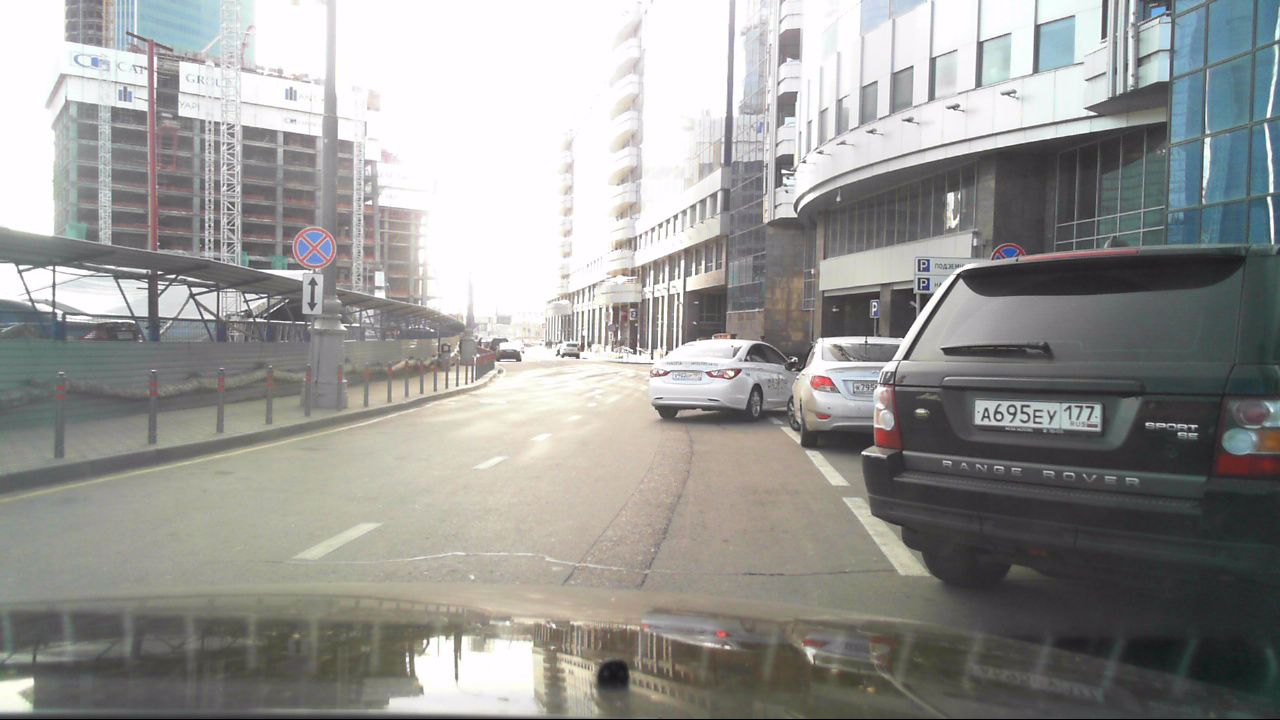No Parking: (992, 242, 1027, 266)
